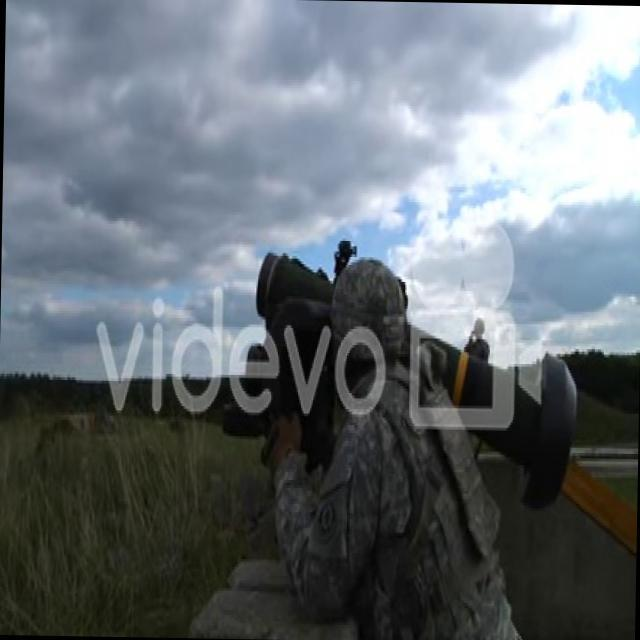rocket: (260, 251, 574, 488)
